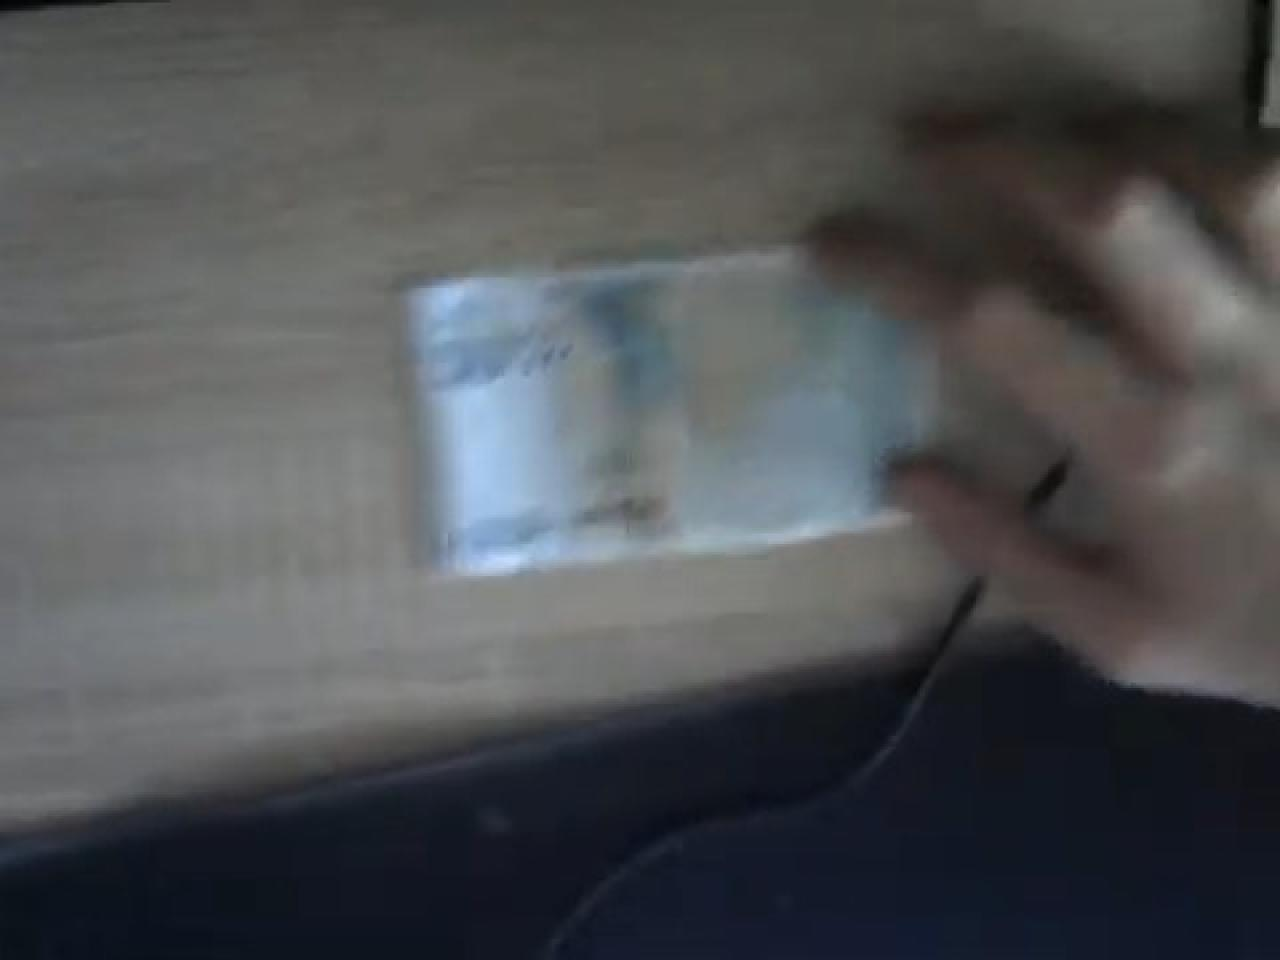20leva: (397, 243, 930, 579)
